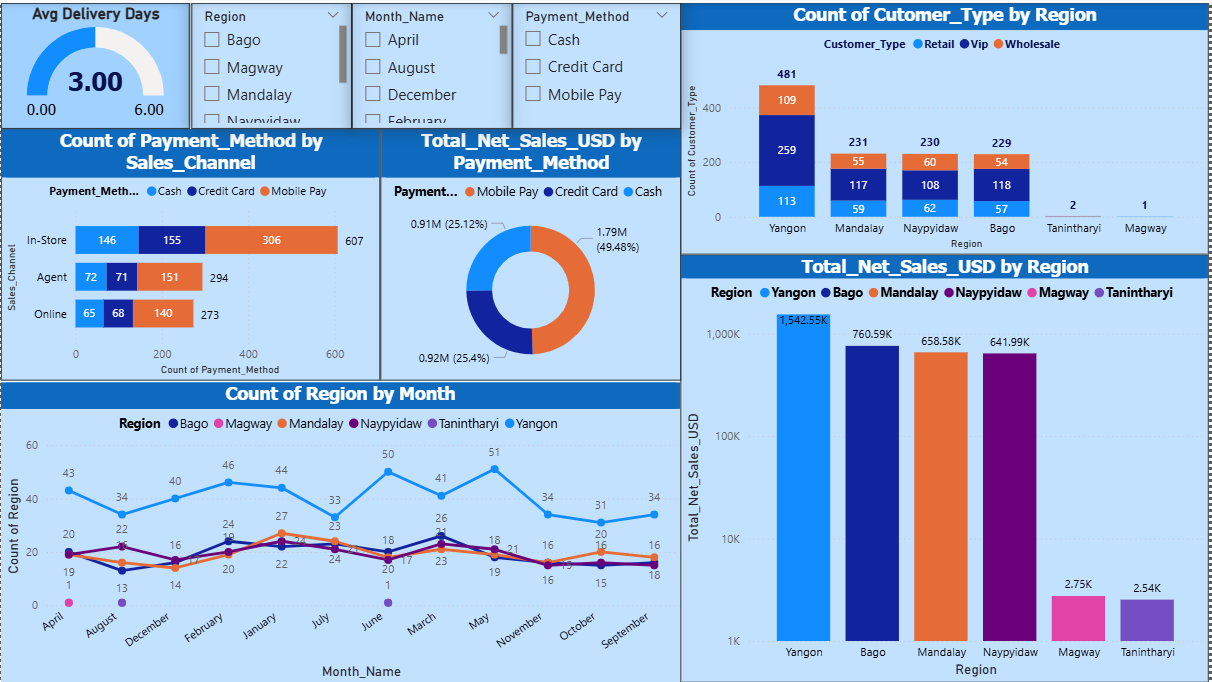

The dashboard page shown, as its layout file describes it:
{"tool":"powerbi","page":{"name":"Dashboard 2: Regional & Channel Analysis","canvas":[1280,720],"ordinal":1},"visuals":[{"type":"gauge","fields":{"Y":["Sheet1.Avg Delivery Days"]},"box":[0,0,200,133.3],"z":0},{"type":"columnChart","title":"Count of Cutomer_Type by Region","fields":{"Category":["Sheet1.Region"],"Y":["CountNonNull(Sheet1.Customer_Type)"],"Series":["Sheet1.Customer_Type"]},"box":[720,0,560,266.7],"z":1000},{"type":"columnChart","title":"Total_Net_Sales_USD by Region","fields":{"Category":["Sheet1.Region"],"Y":["Sheet1.Total_Net_Sales_USD"],"Series":["Sheet1.Region"]},"box":[720,266.7,560,453.3],"z":2000},{"type":"donutChart","fields":{"Y":["Sheet1.Total_Net_Sales_USD"],"Category":["Sheet1.Payment_Method"]},"box":[401.7,133.3,318.3,266.7],"z":3000},{"type":"barChart","title":"Count of Payment_Method by Sales_Channel","fields":{"Category":["Sheet1.Sales_Channel"],"Y":["CountNonNull(Sheet1.Payment_Method)"],"Series":["Sheet1.Payment_Method"]},"box":[0,133.3,401.7,266.7],"z":4000},{"type":"lineChart","title":"Count of Region by Month","fields":{"Series":["Sheet1.Region"],"Y":["CountNonNull(Sheet1.Region)"],"Category":["Sheet1.Date Hierarchy.Month_Name","Sheet1.Date Hierarchy.Year"]},"box":[0,401.7,720,318.3],"z":5000},{"type":"slicer","fields":{"Values":["Sheet1.Region"]},"box":[201.7,0,170,133.3],"z":6000},{"type":"slicer","fields":{"Values":["Sheet1.Month_Name"]},"box":[371.7,0,170,133.3],"z":7000},{"type":"slicer","fields":{"Values":["Sheet1.Payment_Method"]},"box":[541.7,0,178.3,133.3],"z":8000}]}

Visuals, with their boxes in screenshot pixels (x1, y1, x2, y2), scaled from the page's 1280x720 canvas onto the 1212x682 screenshot:
gauge - Sheet1.Avg Delivery Days: bbox=[0, 0, 189, 126]
"Count of Cutomer_Type by Region" columnChart: bbox=[682, 0, 1211, 253]
"Total_Net_Sales_USD by Region" columnChart: bbox=[682, 253, 1211, 681]
donutChart - Sheet1.Total_Net_Sales_USD x Sheet1.Payment_Method: bbox=[380, 126, 682, 379]
"Count of Payment_Method by Sales_Channel" barChart: bbox=[0, 126, 380, 379]
"Count of Region by Month" lineChart: bbox=[0, 380, 682, 681]
slicer - Sheet1.Region: bbox=[191, 0, 352, 126]
slicer - Sheet1.Month_Name: bbox=[352, 0, 513, 126]
slicer - Sheet1.Payment_Method: bbox=[513, 0, 682, 126]
